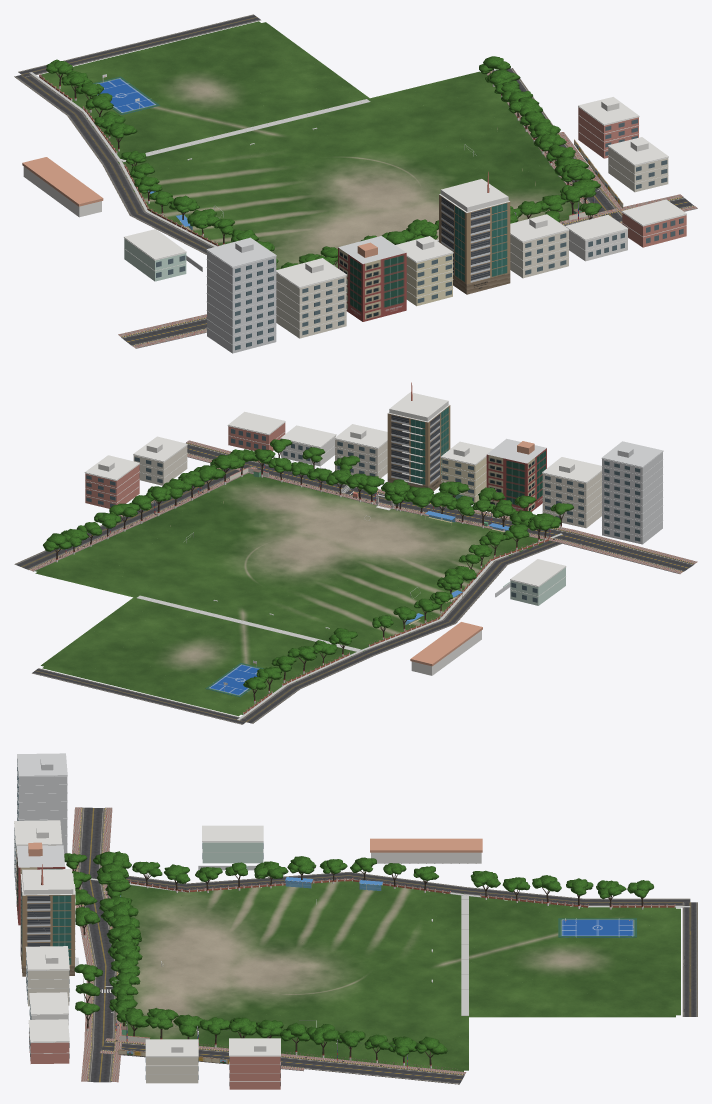
Rendered from khulna_circuit_house_maidan.glb.
3 views of the same model, one above another, from view 1: azimuth 30°, elevation 25°; view 2: azimuth 150°, elevation 25°; view 3: azimuth 270°, elevation 25° (orthographic). The views are drawn at different scales.
Visible parts, largest first — view 1: Khulna_Circuit_House_Maidan_Terrain, Surrounding_Neighborhood_Buildings, Tree_Leaf_Canopies, Surrounding_Asphalt_Roads, Hex_Paver_Footpaths, Northern_Blue_Sports_Court, Maidan_North_Concrete_Walkway, West_Brick_Dwarf_Wall_And_Pillars, Painted_Roadside_And_Field_Tree_Trunks; view 2: Khulna_Circuit_House_Maidan_Terrain, Surrounding_Neighborhood_Buildings, Tree_Leaf_Canopies, Surrounding_Asphalt_Roads, Hex_Paver_Footpaths, Painted_Roadside_And_Field_Tree_Trunks, Northern_Blue_Sports_Court, West_Brick_Dwarf_Wall_And_Pillars, Maidan_North_Concrete_Walkway, Black_And_Yellow_Striped_Curbs, Field_Tarpaulin_Stalls_And_Props; view 3: Khulna_Circuit_House_Maidan_Terrain, Surrounding_Neighborhood_Buildings, Tree_Leaf_Canopies, Surrounding_Asphalt_Roads, Hex_Paver_Footpaths, Northern_Blue_Sports_Court, West_Brick_Dwarf_Wall_And_Pillars, Painted_Roadside_And_Field_Tree_Trunks, Maidan_North_Concrete_Walkway, Black_And_Yellow_Striped_Curbs, Field_Tarpaulin_Stalls_And_Props.
Part boxes in pixels (x1,y1,x2,y2): Khulna_Circuit_House_Maidan_Terrain: (41,21,582,268); Surrounding_Neighborhood_Buildings: (22,97,686,353); Tree_Leaf_Canopies: (46,56,601,269); Surrounding_Asphalt_Roads: (14,14,693,346); Hex_Paver_Footpaths: (29,71,697,348); Northern_Blue_Sports_Court: (92,74,159,114); Maidan_North_Concrete_Walkway: (120,99,370,162); West_Brick_Dwarf_Wall_And_Pillars: (39,74,221,246); Painted_Roadside_And_Field_Tree_Trunks: (56,70,592,265); Khulna_Circuit_House_Maidan_Terrain: (35,473,550,716); Surrounding_Neighborhood_Buildings: (84,382,663,675); Tree_Leaf_Canopies: (43,439,573,689); Surrounding_Asphalt_Roads: (14,443,693,724); Hex_Paver_Footpaths: (29,440,697,720); Painted_Roadside_And_Field_Tree_Trunks: (54,452,564,703); Northern_Blue_Sports_Court: (205,660,263,697); West_Brick_Dwarf_Wall_And_Pillars: (243,537,549,714); Maidan_North_Concrete_Walkway: (136,595,360,651); Black_And_Yellow_Striped_Curbs: (29,442,693,571); Field_Tarpaulin_Stalls_And_Props: (170,469,509,628); Khulna_Circuit_House_Maidan_Terrain: (120,881,680,1071); Surrounding_Neighborhood_Buildings: (14,753,482,1089); Tree_Leaf_Canopies: (64,851,653,1056); Surrounding_Asphalt_Roads: (78,807,697,1084); Hex_Paver_Footpaths: (71,807,690,1082); Northern_Blue_Sports_Court: (558,918,636,937); West_Brick_Dwarf_Wall_And_Pillars: (129,877,675,907); Painted_Roadside_And_Field_Tree_Trunks: (72,863,643,1068); Maidan_North_Concrete_Walkway: (461,895,468,1015); Black_And_Yellow_Striped_Curbs: (77,807,463,1081); Field_Tarpaulin_Stalls_And_Props: (120,877,432,1035).
Bounding box in the file's own units: 242 × 42.55 × 248.
Materials: 41 (14 with a texture image).
